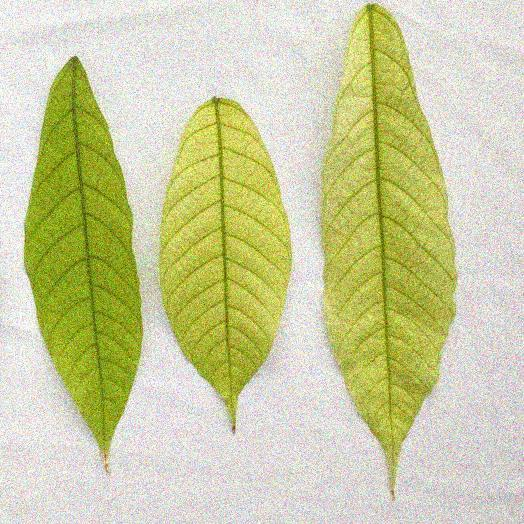Iron: (321, 4, 456, 492), (24, 56, 140, 469), (159, 97, 290, 430)
